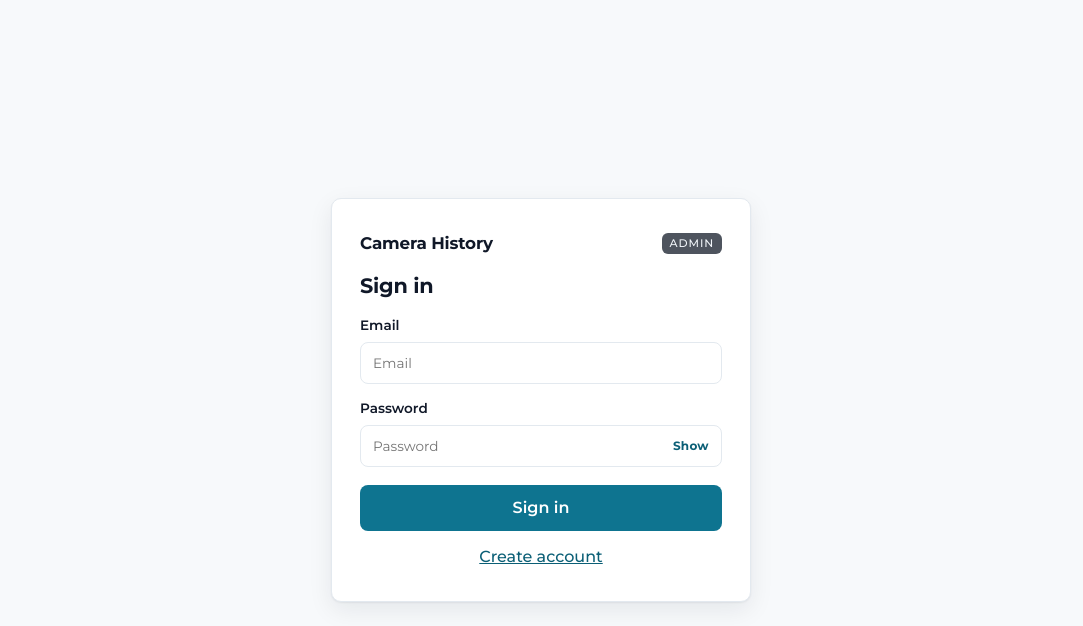
Test: App login › shows login and signs in
expect the form with test id "login-form" is shown: met, box [331,198,751,602]
Type "demo@example.dev" into the field with test id "login-email" at (541, 363), box [360,342,722,384]
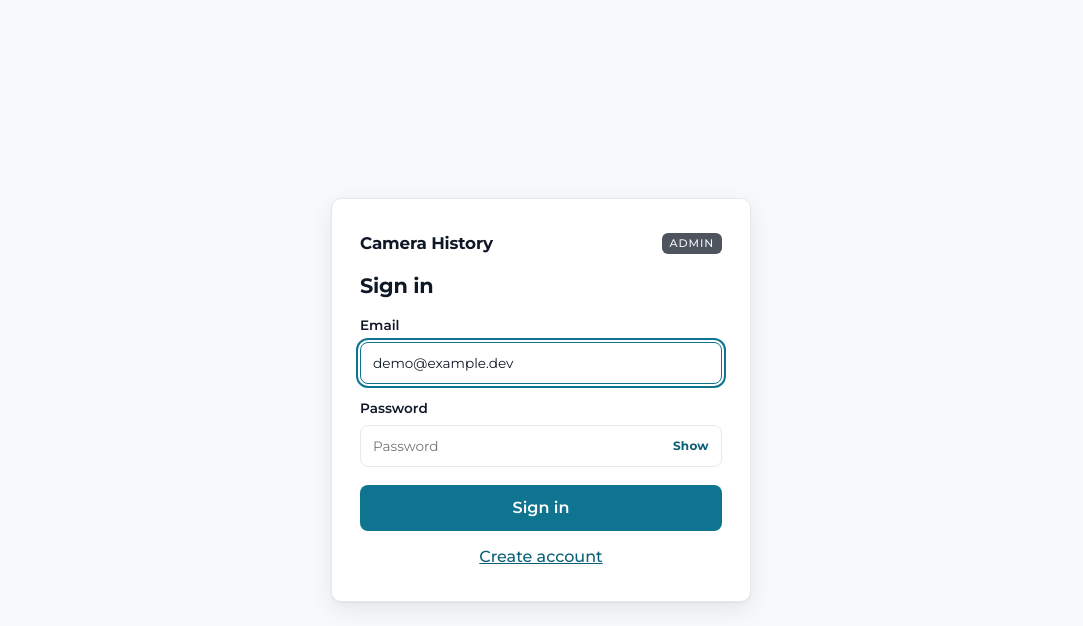
Type "demo-pass-123" into the password field with test id "login-password" at (541, 446), box [360,425,722,467]
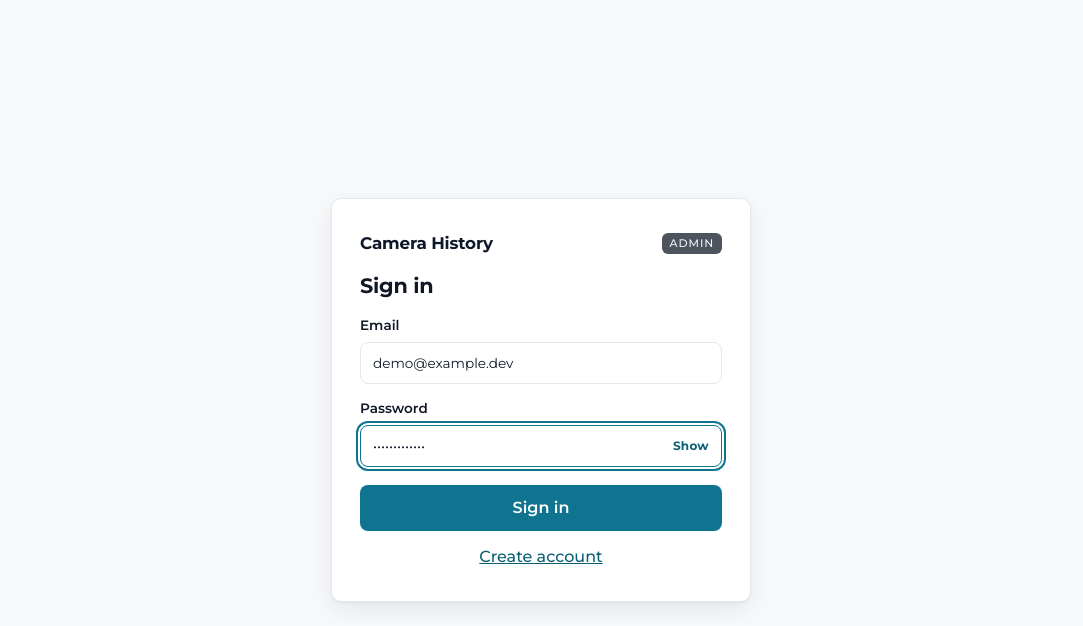
Click the button with test id "login-submit" at (541, 508), box [360,485,722,531]
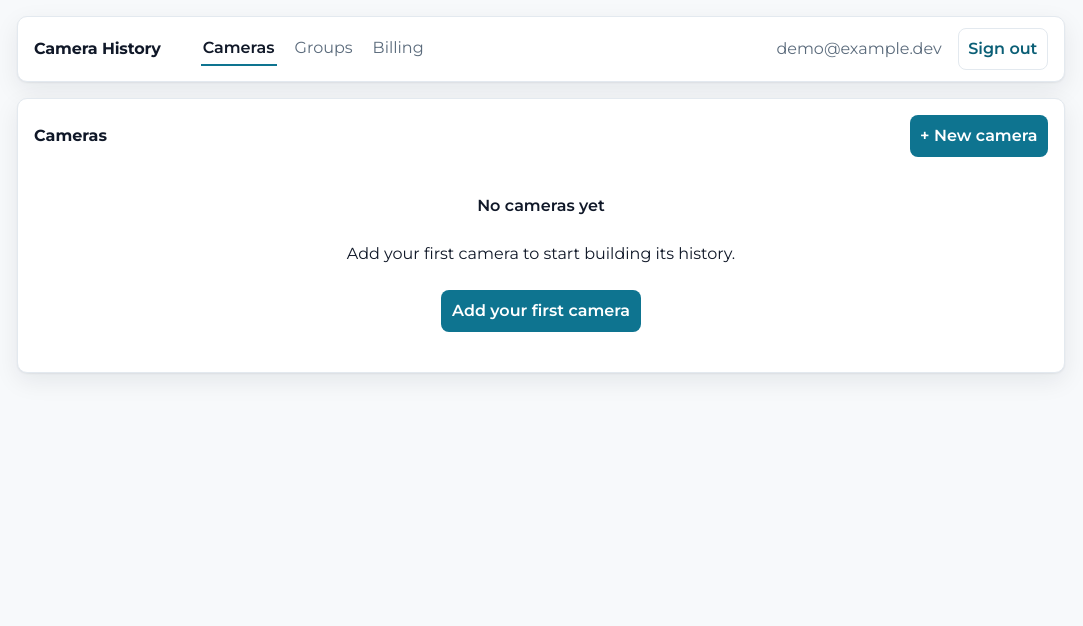
expect the button with test id "logout" is shown: met, box [958,28,1048,70]
